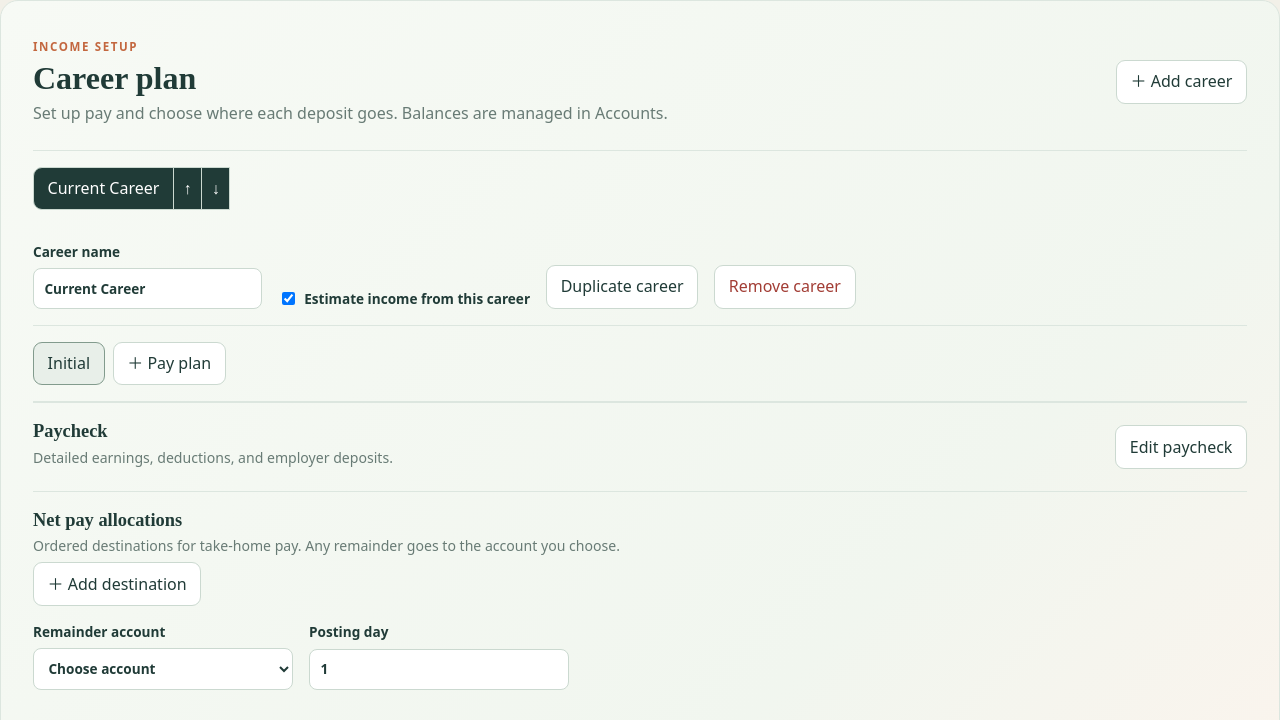
it: AccountCareerPlanEditor › adds a career and selects it without mutating existing entries
Click the button "＋ Add career".
click(1182, 82)  # box [1116,60,1247,104]
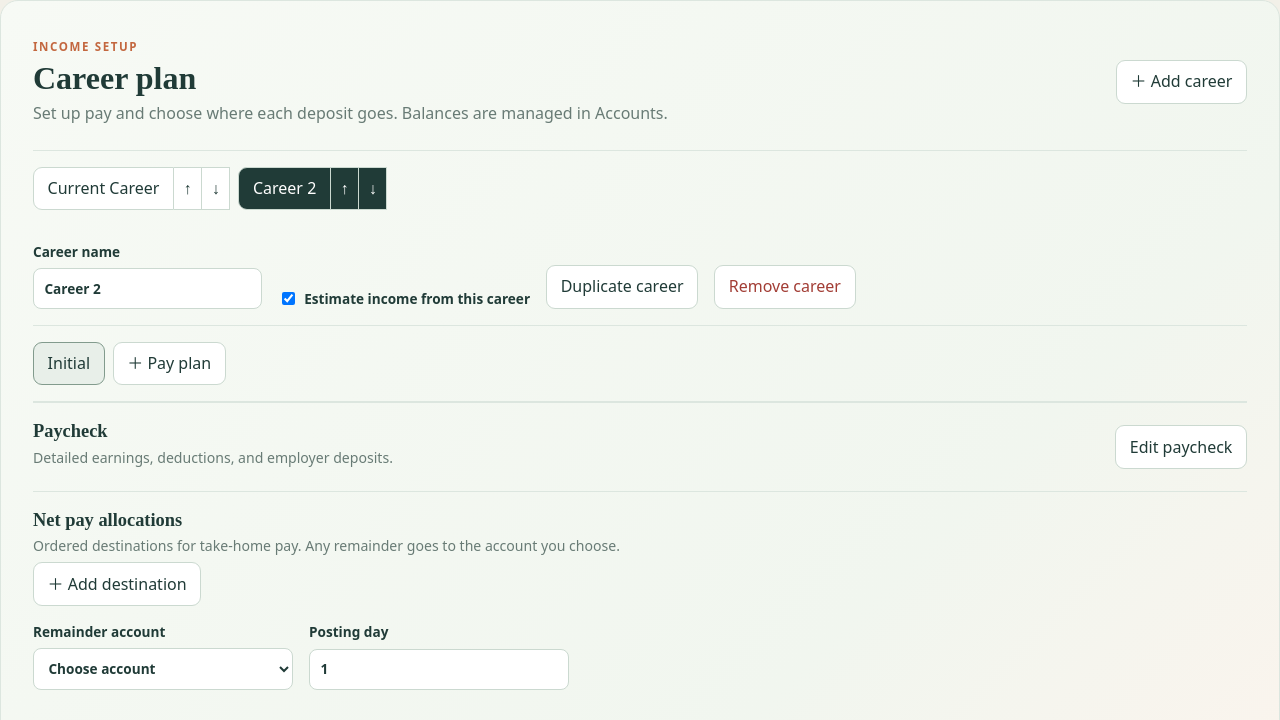
Now the button "Career 2" is shown, box [238,167,331,210]
